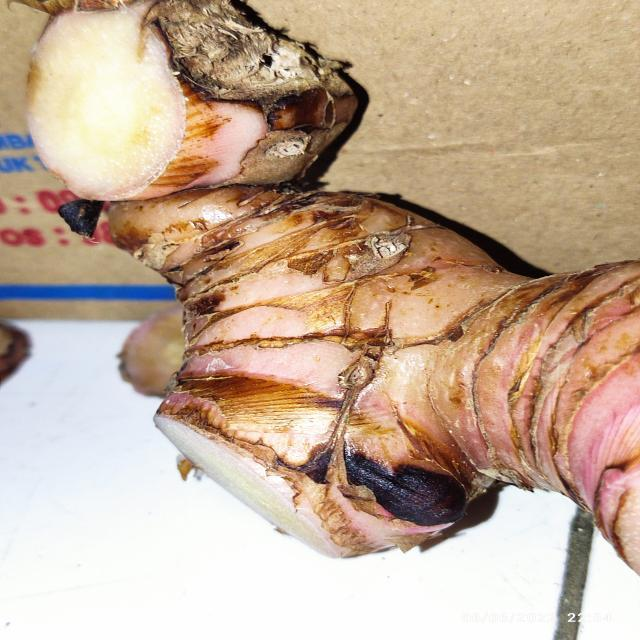ginger: (11, 0, 640, 546)
